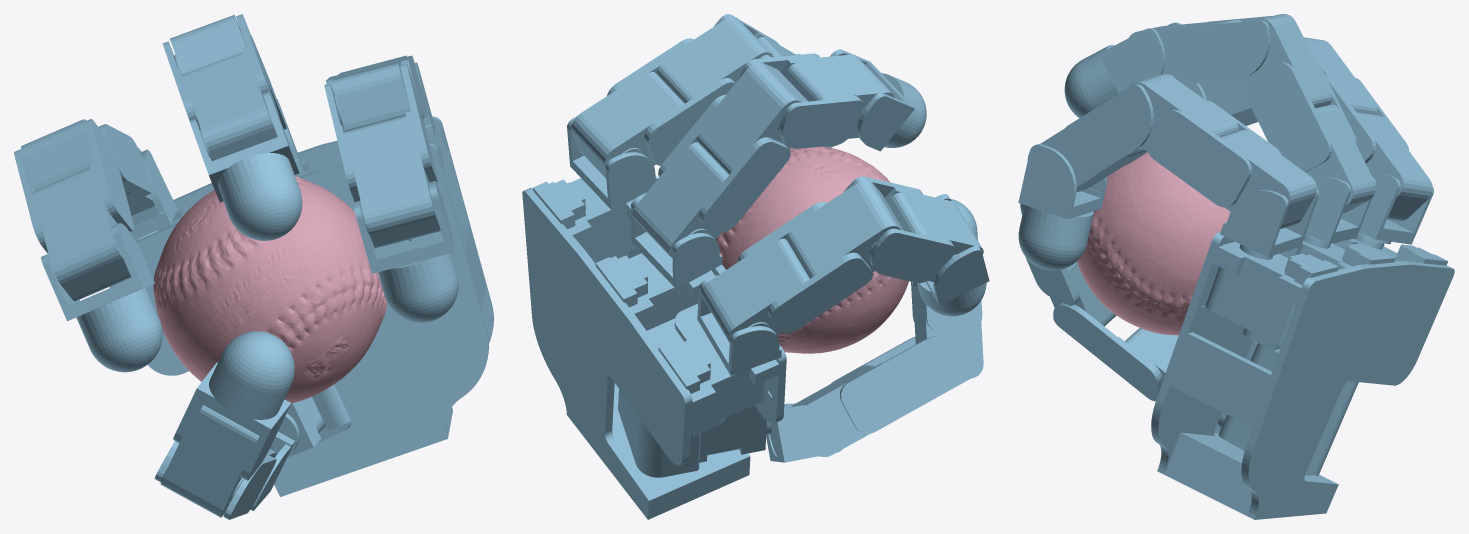
3 views of the same model, side by side, from view 1: azimuth 30°, elevation 25°; view 2: azimuth 150°, elevation 25°; view 3: azimuth 270°, elevation 25° (orthographic). The views are drawn at different scales.
Visible parts, largest first — view 1: world, baseball.stl; view 2: world, baseball.stl; view 3: world, baseball.stl.
Part boxes in pixels (x1,y1,x2,y2): world: (14,14,493,519); baseball.stl: (153,176,387,403); world: (522,14,989,519); baseball.stl: (716,146,908,353); world: (1018,14,1454,519); baseball.stl: (1077,152,1230,335).
Bounding box in the file's own units: 0.1726 × 0.1744 × 0.1508.
